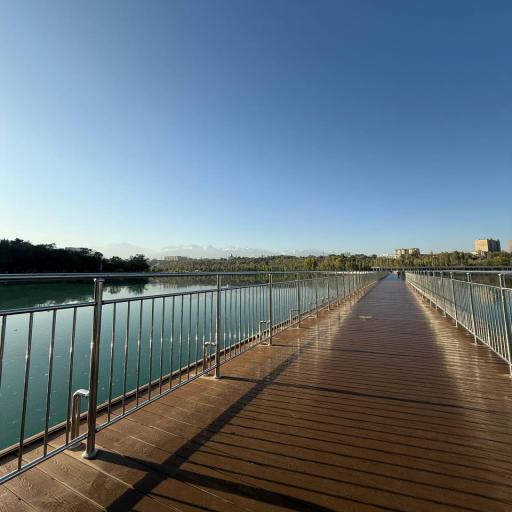shelf: (0, 275, 511, 512)
